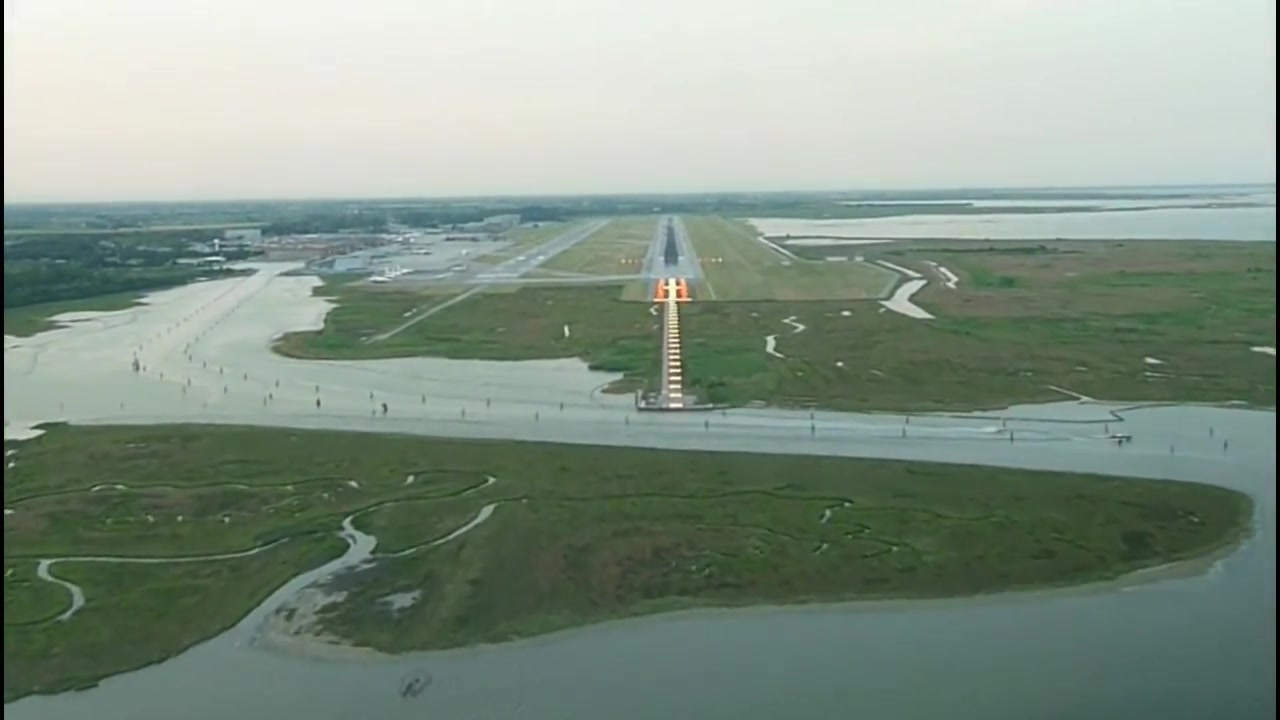runway: (477, 218, 613, 282), (648, 215, 693, 278)
